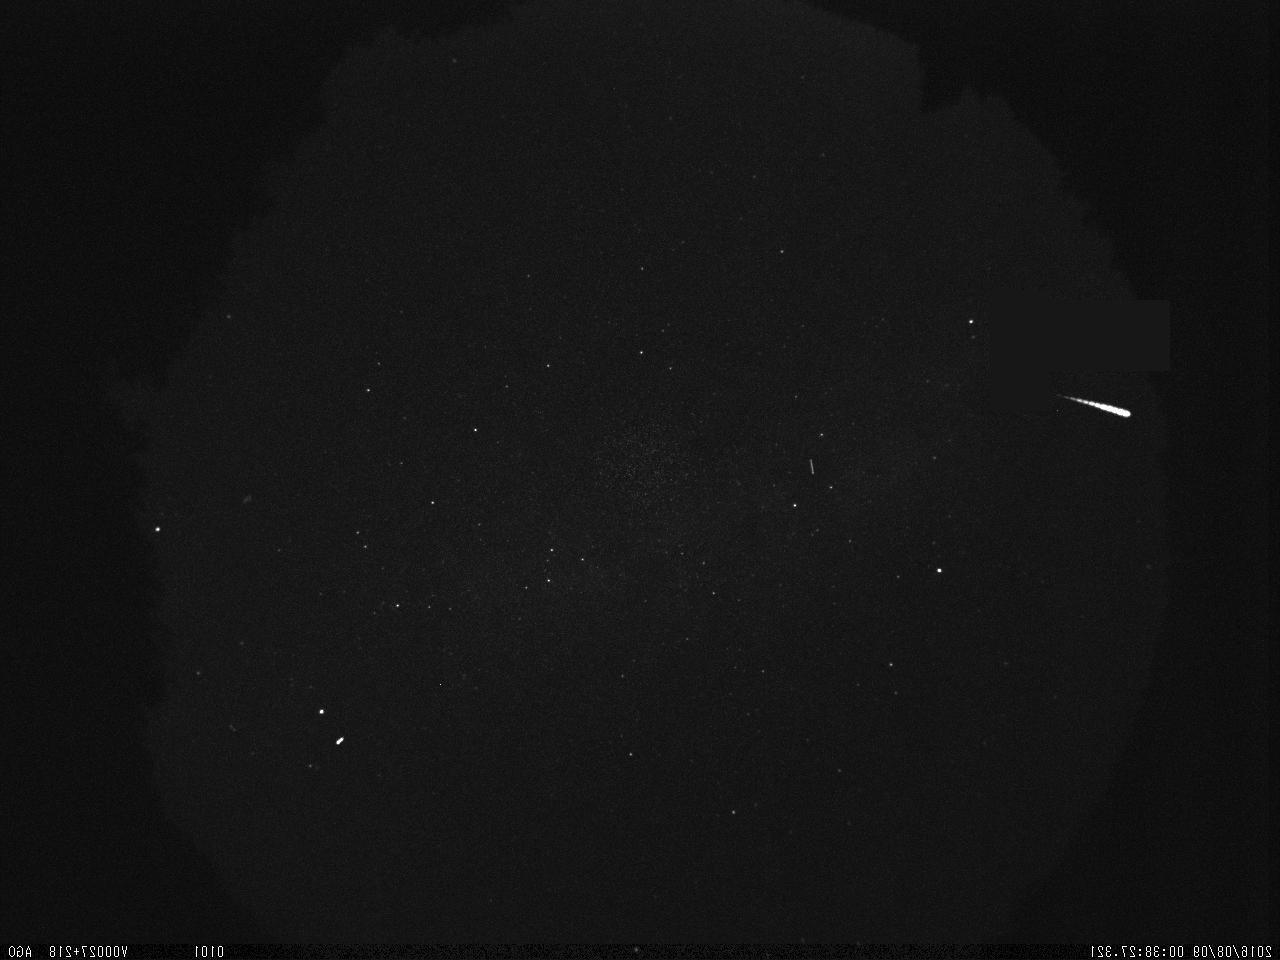meteor: (1060, 388, 1138, 429)
